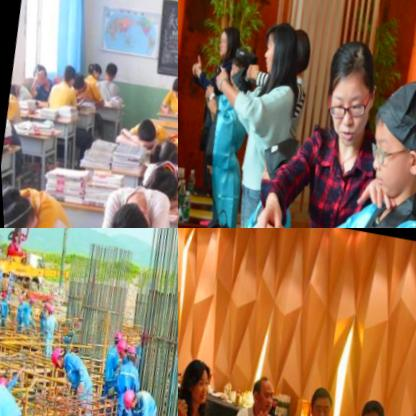head: (313, 33, 384, 147), (358, 70, 416, 206), (256, 20, 299, 83), (279, 26, 316, 77), (0, 185, 42, 228), (178, 355, 211, 409), (141, 158, 178, 203), (222, 47, 257, 90), (100, 198, 149, 228), (244, 372, 276, 414), (297, 382, 336, 416), (208, 23, 239, 64), (129, 112, 162, 147), (150, 130, 178, 170), (349, 396, 386, 416), (27, 58, 48, 85), (56, 63, 76, 87), (163, 69, 178, 99), (68, 69, 85, 92), (84, 59, 101, 79), (101, 59, 115, 79)
helmet: (45, 342, 67, 372), (117, 386, 137, 410), (112, 336, 128, 360)
